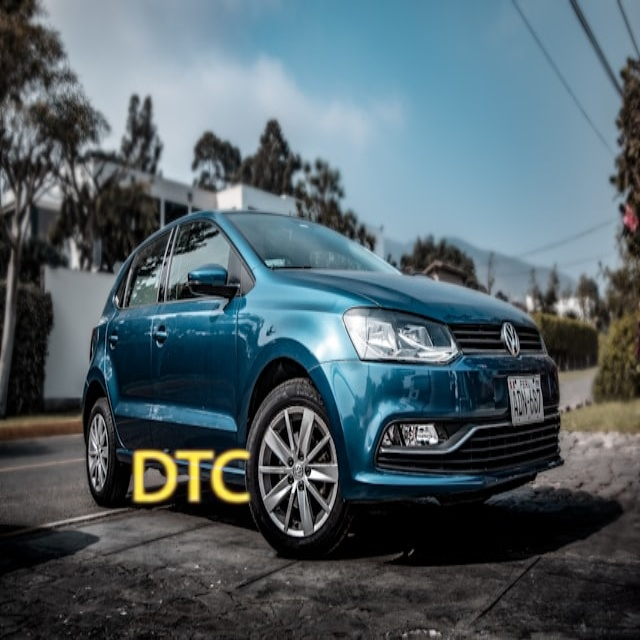symbol: (102, 388, 282, 568)
